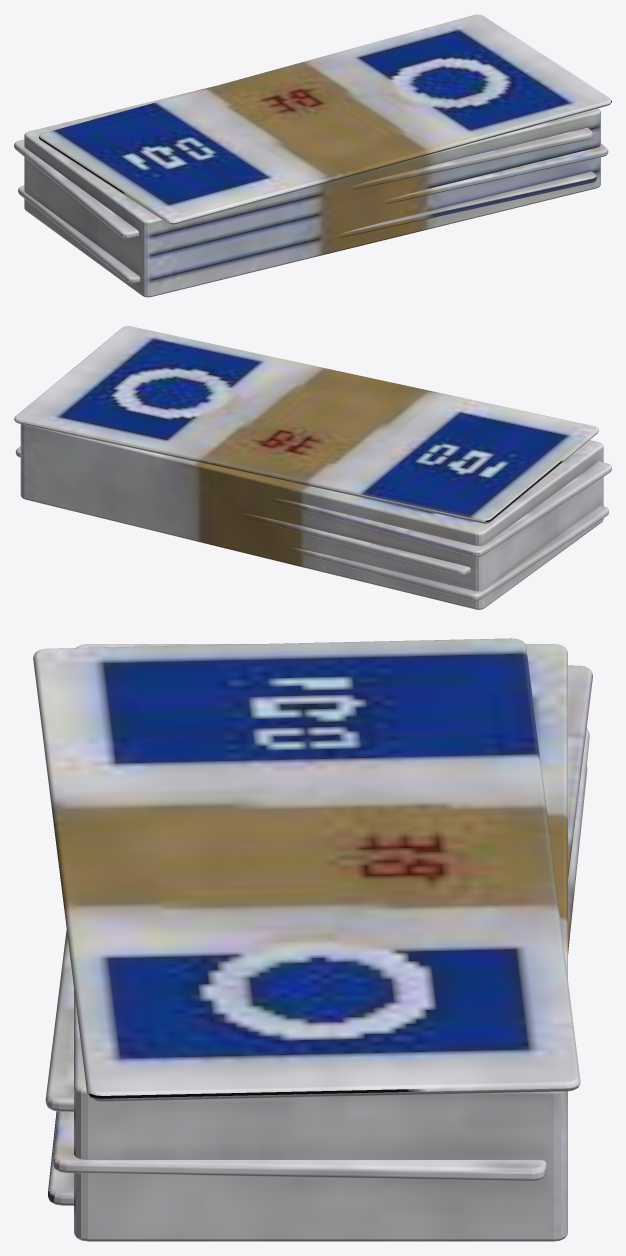
File: scrip_bundle.glb
The picture shows the model from 3 angles, top to bottom: view 1: azimuth 30°, elevation 25°; view 2: azimuth 150°, elevation 25°; view 3: azimuth 270°, elevation 25°; orthographic projection. The views are drawn at different scales.
Visible parts, largest first — view 1: scrip_bundle; view 2: scrip_bundle; view 3: scrip_bundle.
Part boxes in pixels (x1,y1,x2,y2): scrip_bundle: [14, 14, 611, 297]; scrip_bundle: [14, 326, 611, 609]; scrip_bundle: [33, 638, 592, 1241].
Size of the model in its own units: 0.1594 by 0.0255 by 0.0793.
Materials: 1 (1 with a texture image).
